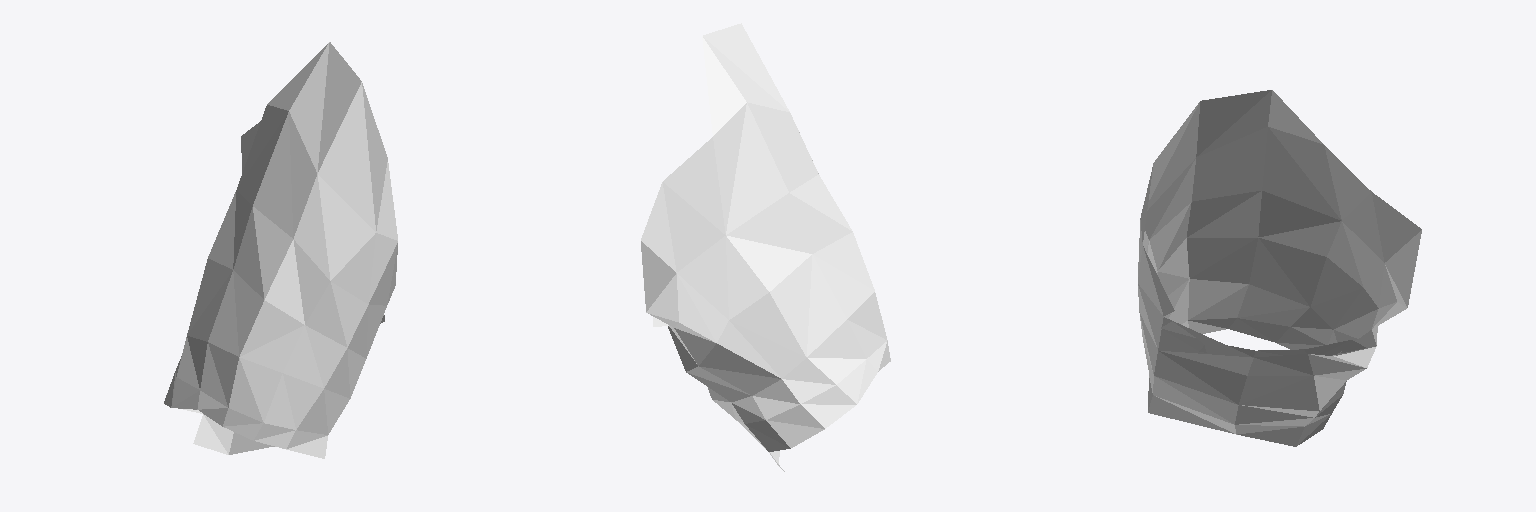
Rendered from brazoDer.obj.
3 views of the same model, side by side, from view 1: azimuth 30°, elevation 25°; view 2: azimuth 150°, elevation 25°; view 3: azimuth 270°, elevation 25° (orthographic).
Bounding box in the file's own units: 15.02 × 33.06 × 21.28.